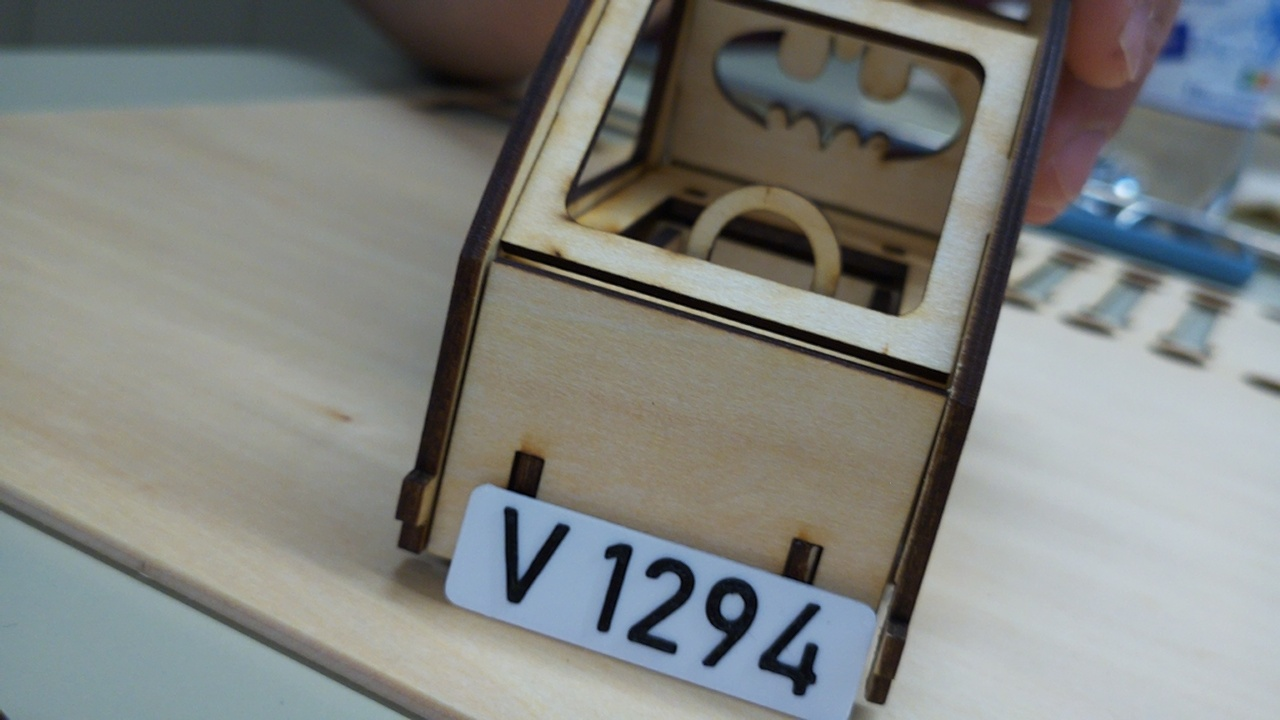license_plate: (442, 480, 883, 720)
